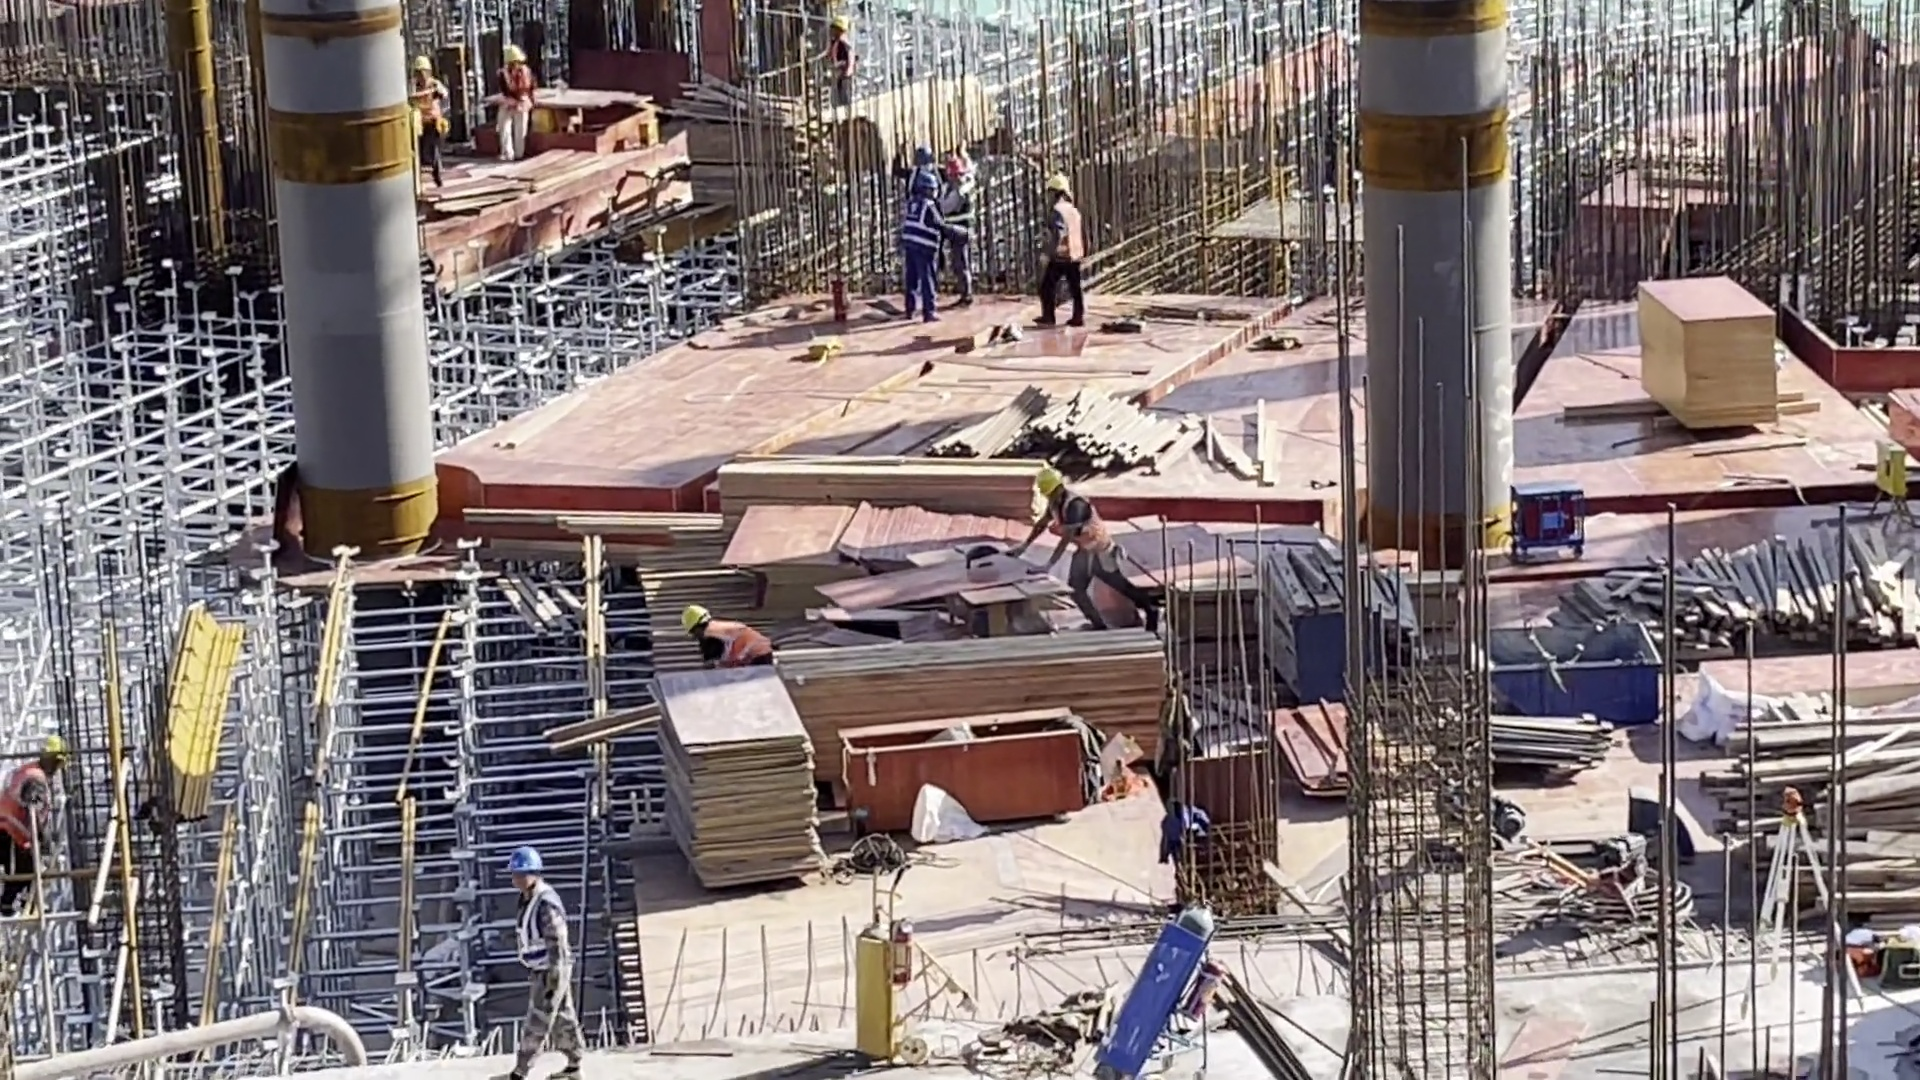board: (647, 669, 821, 887), (1639, 279, 1773, 432), (732, 495, 865, 608), (1266, 701, 1350, 806)
cutter: (906, 530, 1080, 637), (524, 82, 655, 157)
ebox: (1872, 435, 1907, 518)
helmet: (507, 848, 550, 878), (1031, 468, 1063, 505), (679, 605, 708, 634), (408, 54, 436, 75), (945, 156, 973, 177), (500, 45, 526, 64), (910, 150, 934, 170)
hopper: (1479, 624, 1662, 726)
person: (1028, 464, 1155, 632), (503, 846, 588, 1080), (6, 737, 69, 920), (1040, 172, 1090, 328), (902, 178, 948, 325), (680, 603, 776, 672), (494, 40, 541, 162), (408, 55, 447, 185), (945, 157, 980, 302), (887, 141, 938, 193), (820, 14, 851, 81)
vest: (516, 890, 566, 988), (1054, 492, 1114, 559), (705, 619, 772, 668), (1044, 204, 1090, 262), (903, 197, 940, 255), (496, 61, 536, 113), (943, 184, 975, 239), (414, 80, 443, 127)
wood: (1703, 710, 1920, 927), (1550, 527, 1919, 647), (926, 375, 1282, 488), (777, 632, 1175, 718), (705, 458, 1043, 517), (688, 77, 833, 203), (830, 71, 997, 161)
